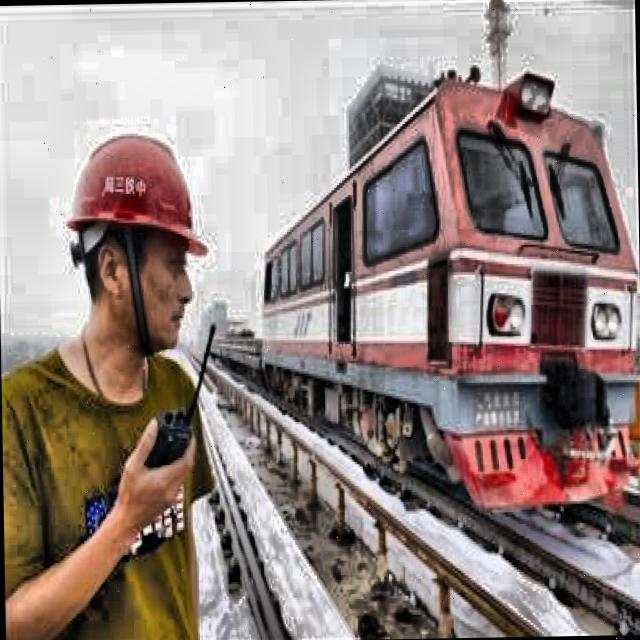helmet: (50, 105, 216, 377)
